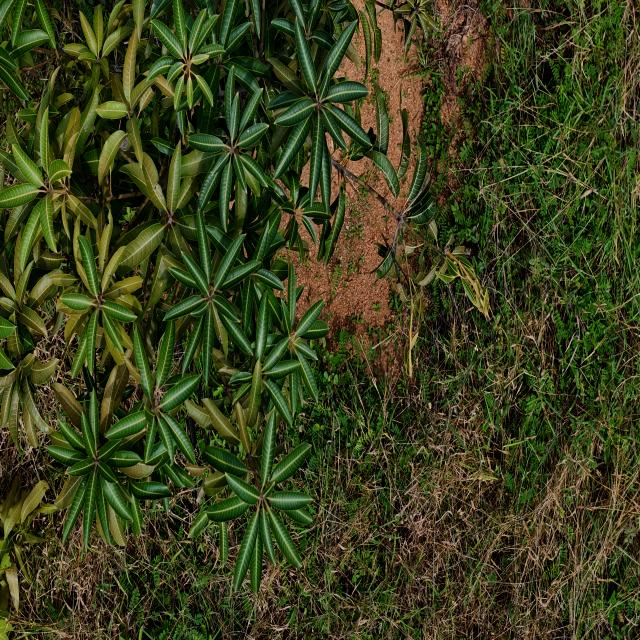mangoTree: (0, 0, 472, 640)
